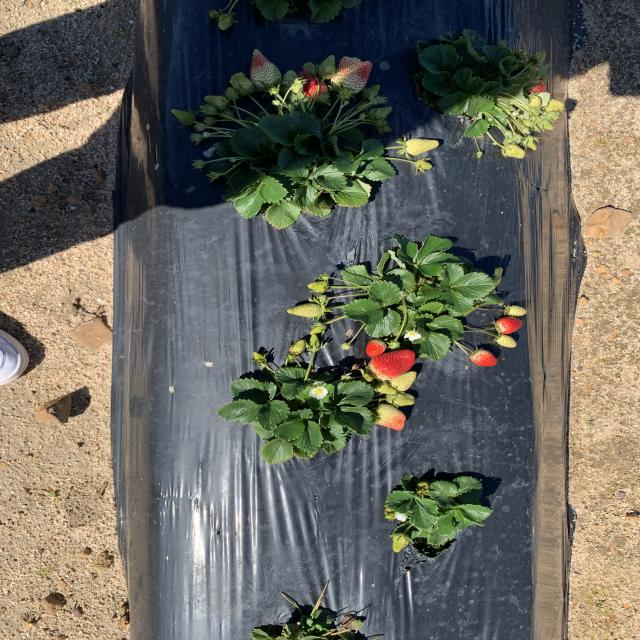unripe: (369, 350, 418, 380), (296, 70, 330, 101), (469, 350, 498, 366), (366, 340, 386, 357), (496, 318, 520, 332)
